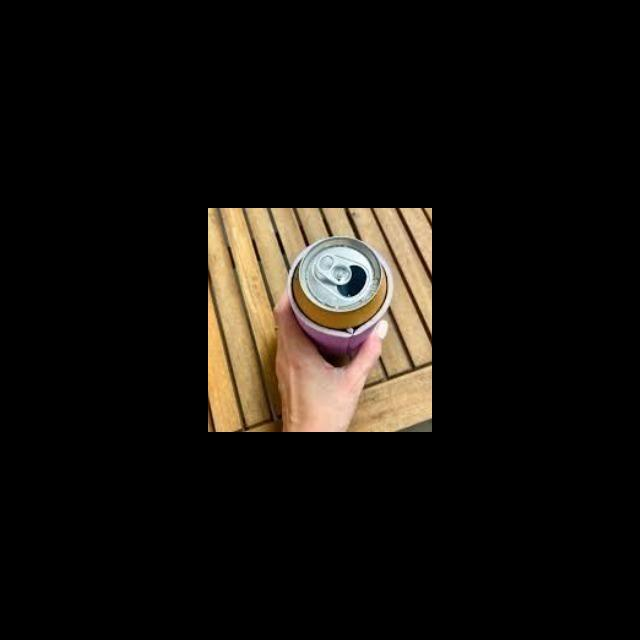metal: (292, 231, 385, 318)
